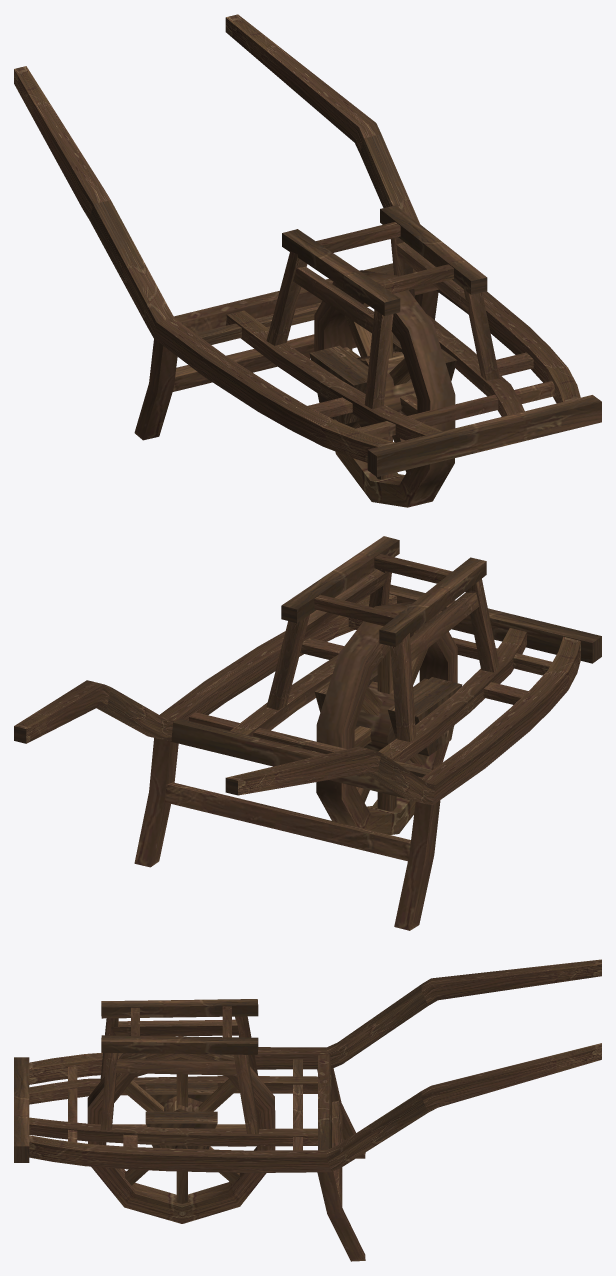
The model's file is q01c_thing_02.FBX.
3 renders of one model, top to bottom at view 1: azimuth 30°, elevation 25°; view 2: azimuth 150°, elevation 25°; view 3: azimuth 270°, elevation 25°, orthographic. The views are drawn at different scales.
Visible parts, largest first — view 1: q01c_thing_02; view 2: q01c_thing_02; view 3: q01c_thing_02.
Part boxes in pixels (x1,y1,x2,y2): q01c_thing_02: (14, 14, 601, 507); q01c_thing_02: (14, 536, 601, 930); q01c_thing_02: (14, 959, 601, 1261).
Size of the model in its own units: 276 by 244 by 601.
